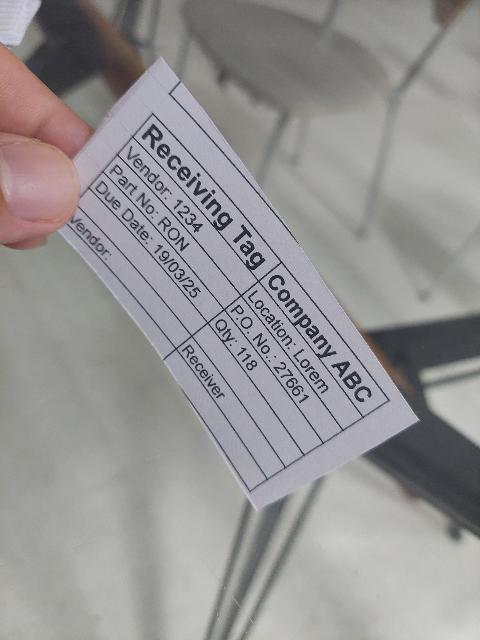PO no: (224, 296, 345, 443)
part no: (102, 153, 242, 309)
qty: (206, 308, 322, 456)
tags: (57, 58, 422, 513)
